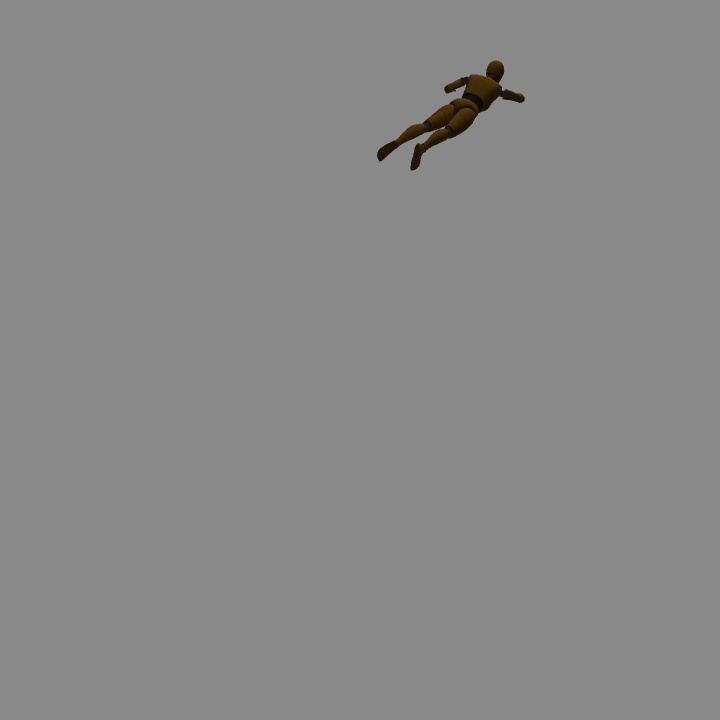victim: (376, 60, 526, 167)
